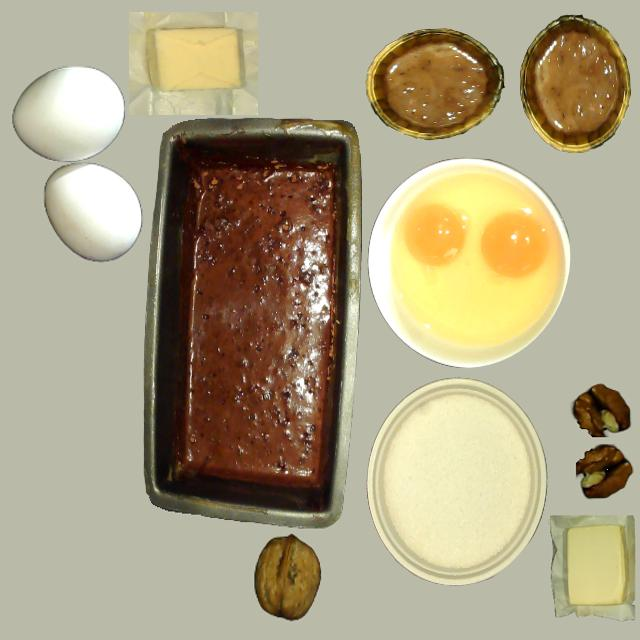Egg: (480, 212, 549, 280), (404, 204, 468, 268)
Sugar: (366, 378, 546, 583)
